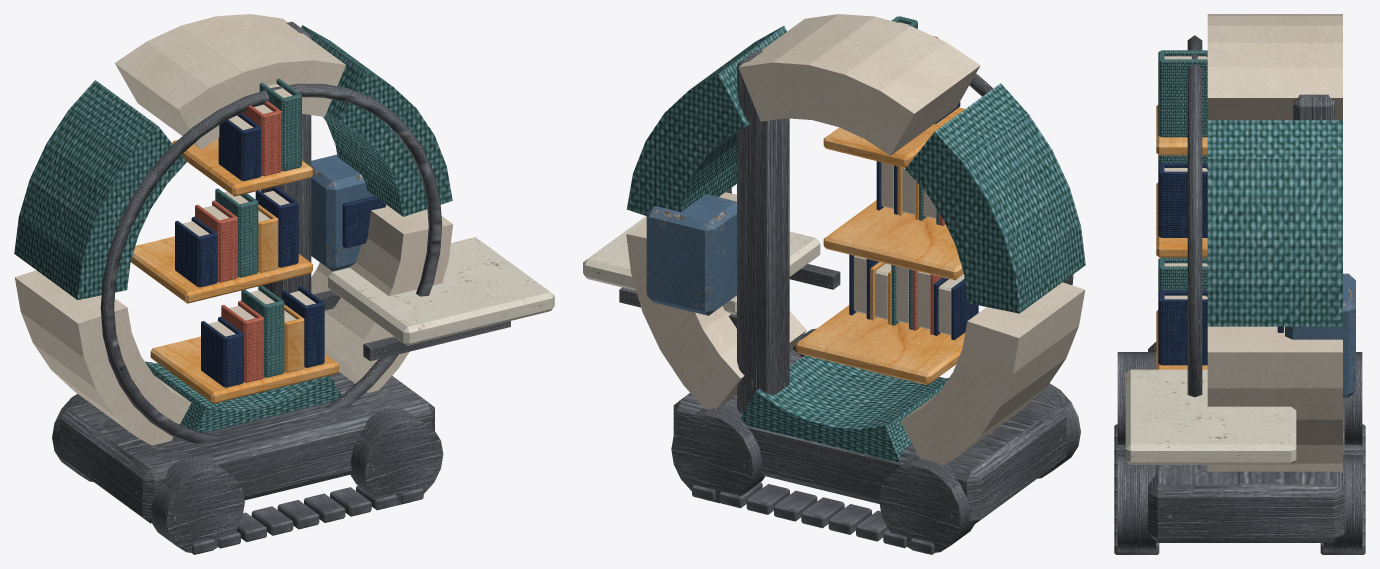
The model's file is revised-02-02.glb.
3 views of the same model, side by side, from view 1: azimuth 30°, elevation 25°; view 2: azimuth 150°, elevation 25°; view 3: azimuth 270°, elevation 25° (orthographic). The views are drawn at different scales.
Visible parts, largest first — view 1: snail_library; view 2: snail_library; view 3: snail_library.
Part boxes in pixels (box(x1,y1,x2,y2)): snail_library: box(14, 14, 554, 554); snail_library: box(583, 14, 1085, 554); snail_library: box(1114, 14, 1365, 554).
Bounding box in the file's own units: 1.69 × 1.58 × 0.78.
2 materials, 2 textured.
